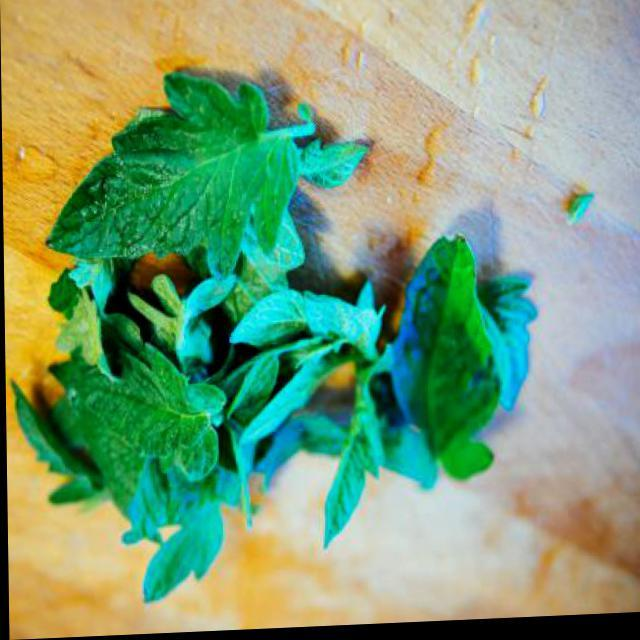Tomato bacterial spot leaf: (43, 48, 304, 268), (380, 203, 488, 495), (46, 335, 236, 480)
